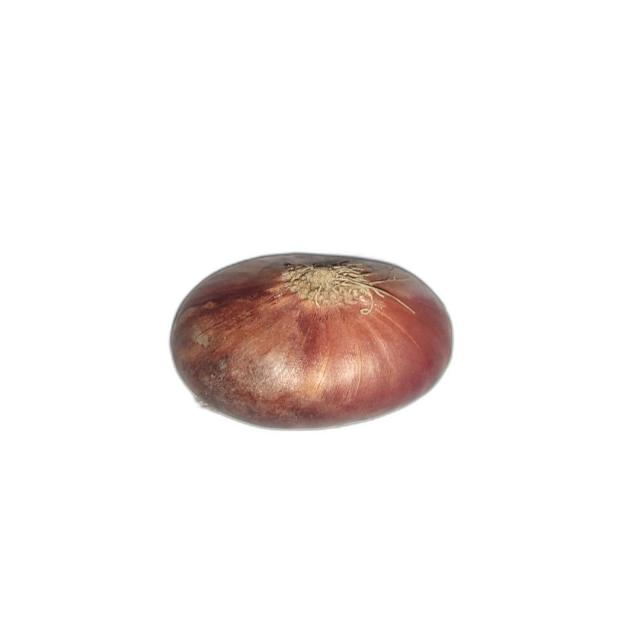onion: (169, 252, 455, 431)
